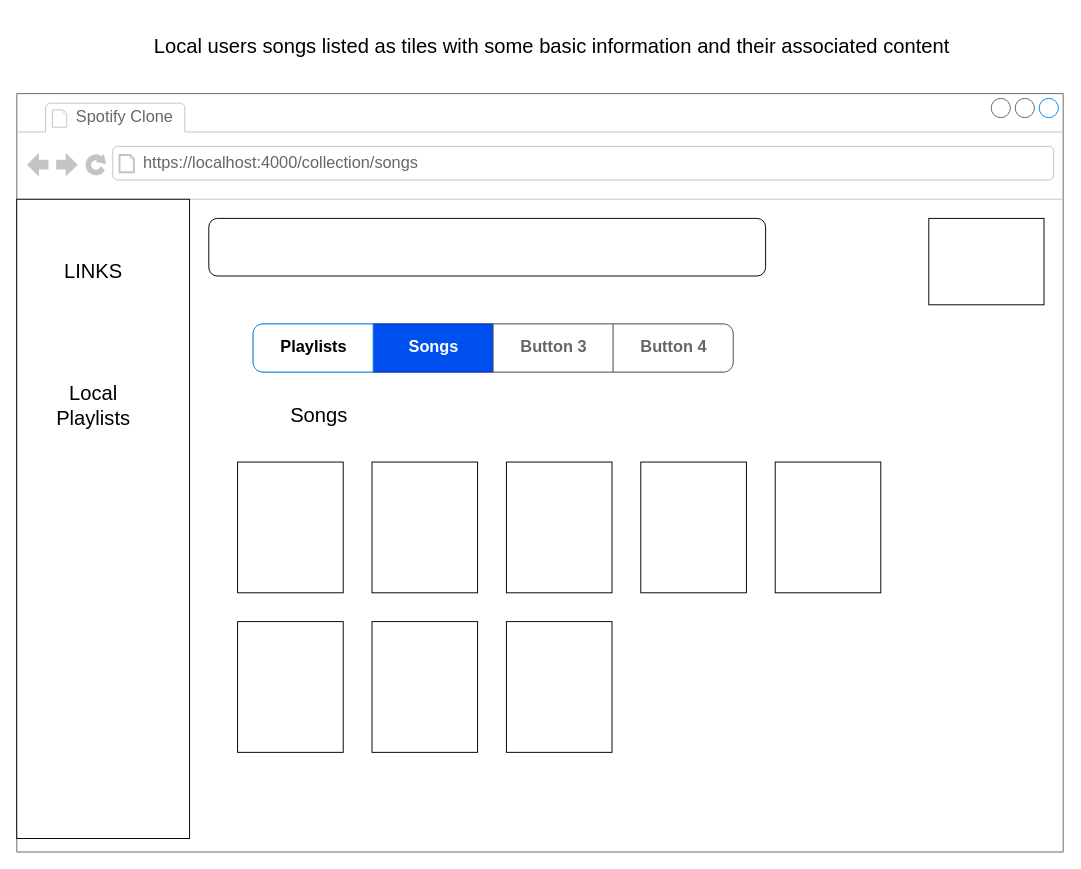
Some shapes in this 1081 by 869 pixel diagram are drawn without their labels. The centre of each missing label's shape, as x and y in pixels:
"Logged in user menu" goes at (986,261).
"Main Search Bar" goes at (487,246).
